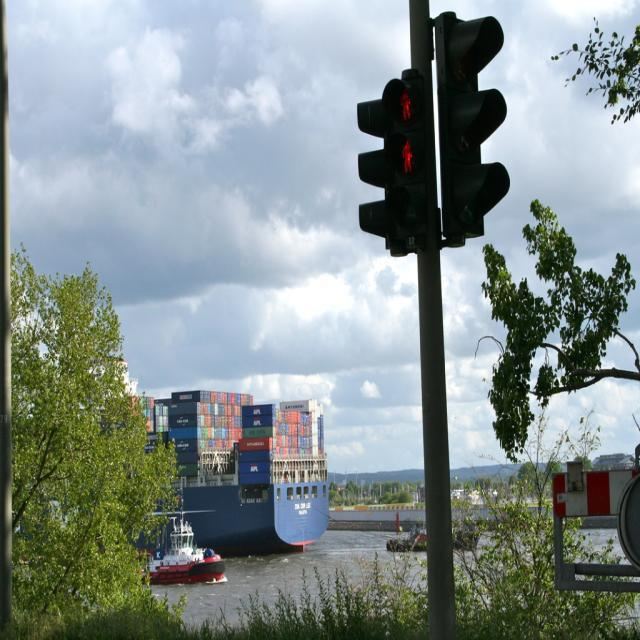off traffic light: (437, 11, 508, 237)
traffic light: (384, 71, 431, 231)
